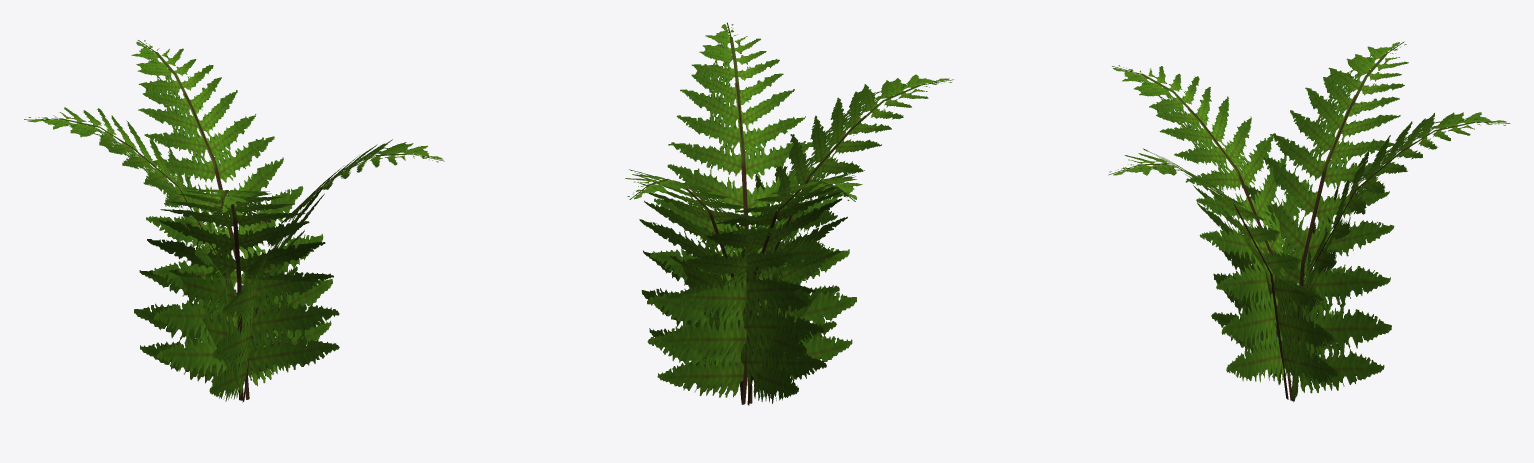
The model's file is Fern01.dae.
3 views of the same model, side by side, from view 1: azimuth 30°, elevation 25°; view 2: azimuth 150°, elevation 25°; view 3: azimuth 270°, elevation 25° (orthographic). The views are drawn at different scales.
Parts seen in each view (by area): view 1: Plane_002, Plane, Plane_003, Plane_001; view 2: Plane_003, Plane_001, Plane, Plane_002; view 3: Plane_001, Plane_002, Plane_003, Plane.
Part boxes in pixels (x1=…): Plane_002: x1=134, y1=188, x2=339, y2=400; Plane: x1=131, y1=40, x2=332, y2=399; Plane_003: x1=209, y1=139, x2=444, y2=402; Plane_001: x1=24, y1=107, x2=243, y2=393; Plane_003: x1=647, y1=22, x2=856, y2=403; Plane_001: x1=656, y1=172, x2=862, y2=404; Plane: x1=625, y1=169, x2=826, y2=401; Plane_002: x1=730, y1=74, x2=953, y2=405; Plane_001: x1=1211, y1=41, x2=1408, y2=401; Plane_002: x1=1112, y1=65, x2=1343, y2=399; Plane_003: x1=1108, y1=148, x2=1338, y2=399; Plane: x1=1290, y1=112, x2=1510, y2=401.
Bounding box in the file's own units: 3.22 × 3.23 × 2.07.
Materials: 1 (1 with a texture image).
